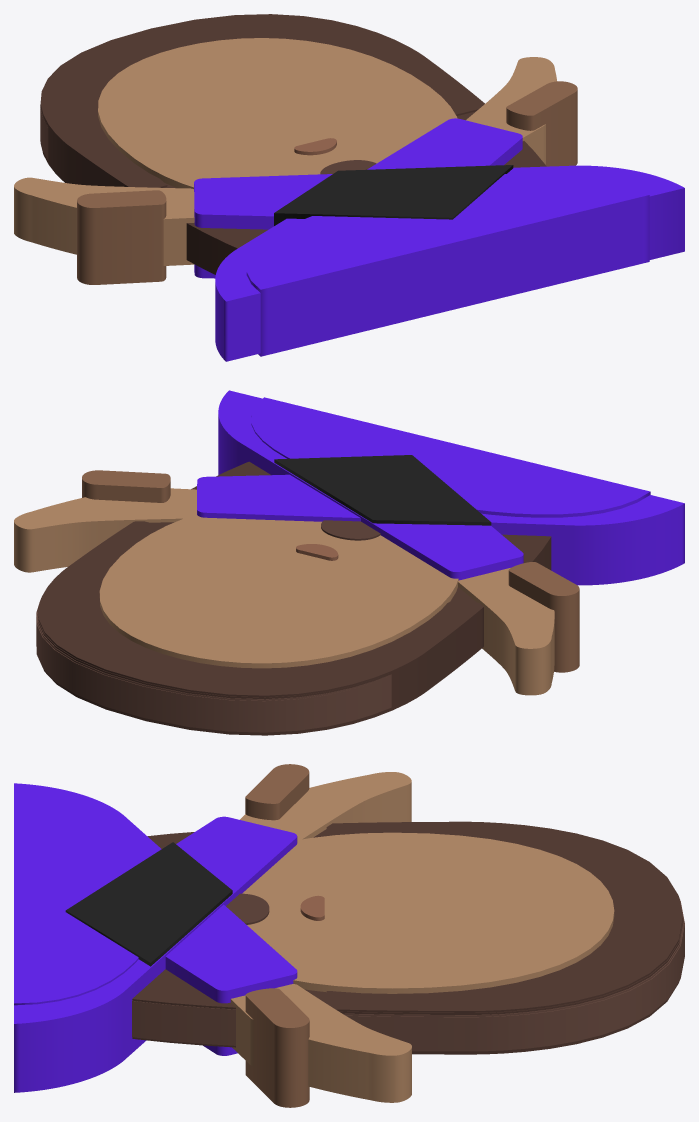
Rendered from emoji_u1f645_1f3fd_200d_2640.glb.
The picture shows the model from 3 angles, top to bottom: view 1: azimuth 30°, elevation 25°; view 2: azimuth 150°, elevation 25°; view 3: azimuth 270°, elevation 25°; orthographic projection. The views are drawn at different scales.
Parts seen in each view (by area): view 1: emoji_u1f645_1f3fd_200d_2640; view 2: emoji_u1f645_1f3fd_200d_2640; view 3: emoji_u1f645_1f3fd_200d_2640.
Part boxes in pixels (x1,y1,x2,y2): emoji_u1f645_1f3fd_200d_2640: (14,14,684,361); emoji_u1f645_1f3fd_200d_2640: (14,390,684,735); emoji_u1f645_1f3fd_200d_2640: (14,764,684,1107).
Bounding box in the file's own units: 0.0334 × 0.0046 × 0.0335.
